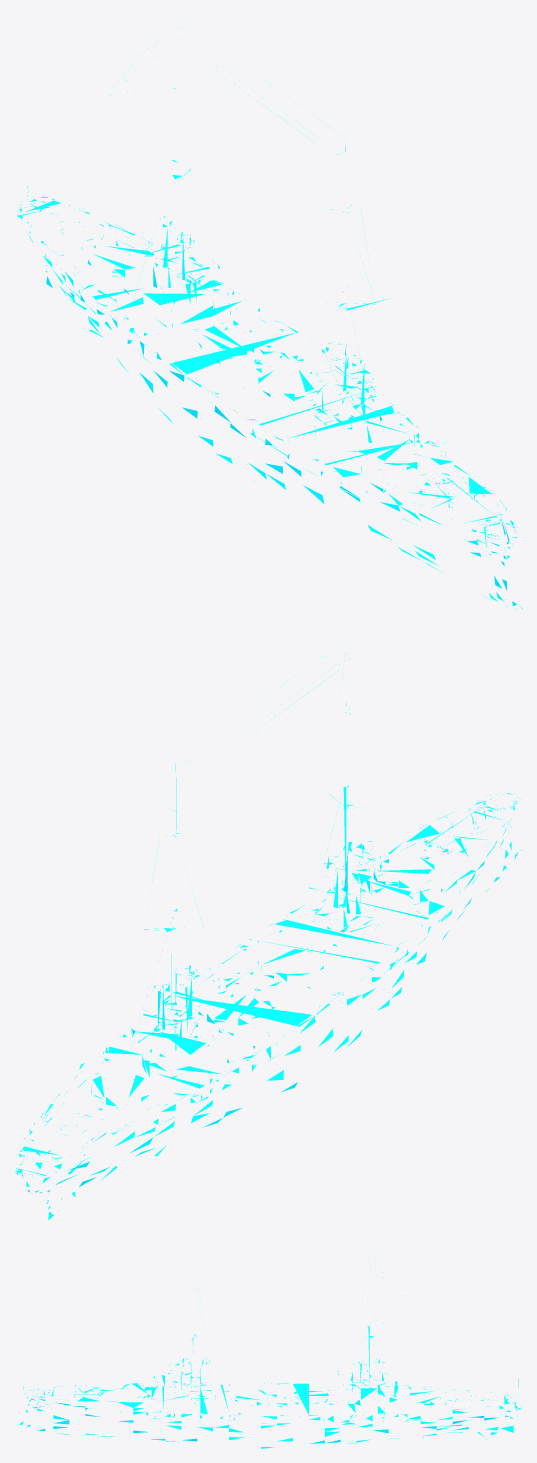
The model's file is Dante_Alighieri.glb.
3 renders of one model, top to bottom at view 1: azimuth 30°, elevation 25°; view 2: azimuth 150°, elevation 25°; view 3: azimuth 270°, elevation 25°, orthographic. The views are drawn at different scales.
Size of the model in its own units: 1.77 by 4.56 by 11.24.
